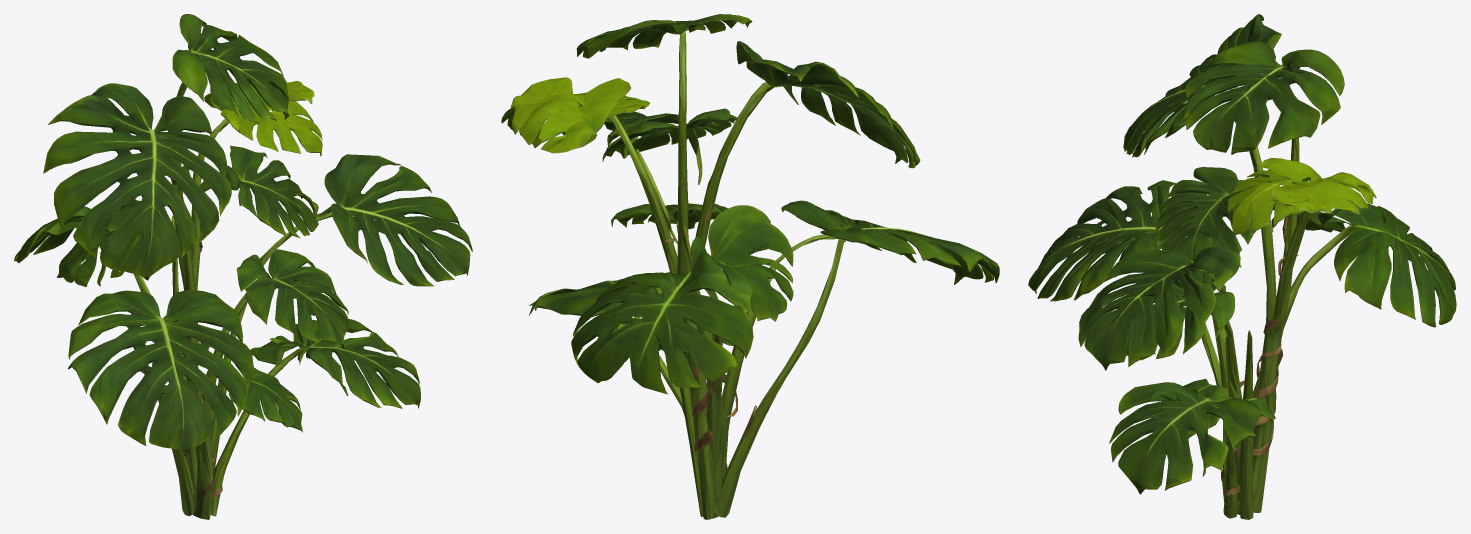
Rendered from monstera.glb.
3 renders of one model, left to right at view 1: azimuth 30°, elevation 25°; view 2: azimuth 150°, elevation 25°; view 3: azimuth 270°, elevation 25°, orthographic. The views are drawn at different scales.
Visible parts, largest first — view 1: output_unwrapped; view 2: output_unwrapped; view 3: output_unwrapped.
Boxes of the visible parts, box(x1,y1,x2,y2) form: output_unwrapped: box(14, 14, 472, 519); output_unwrapped: box(501, 14, 999, 519); output_unwrapped: box(1028, 14, 1456, 519).
Bounding box in the file's own units: 1.73 × 1.9 × 1.56.
Materials: 1 (1 with a texture image).
